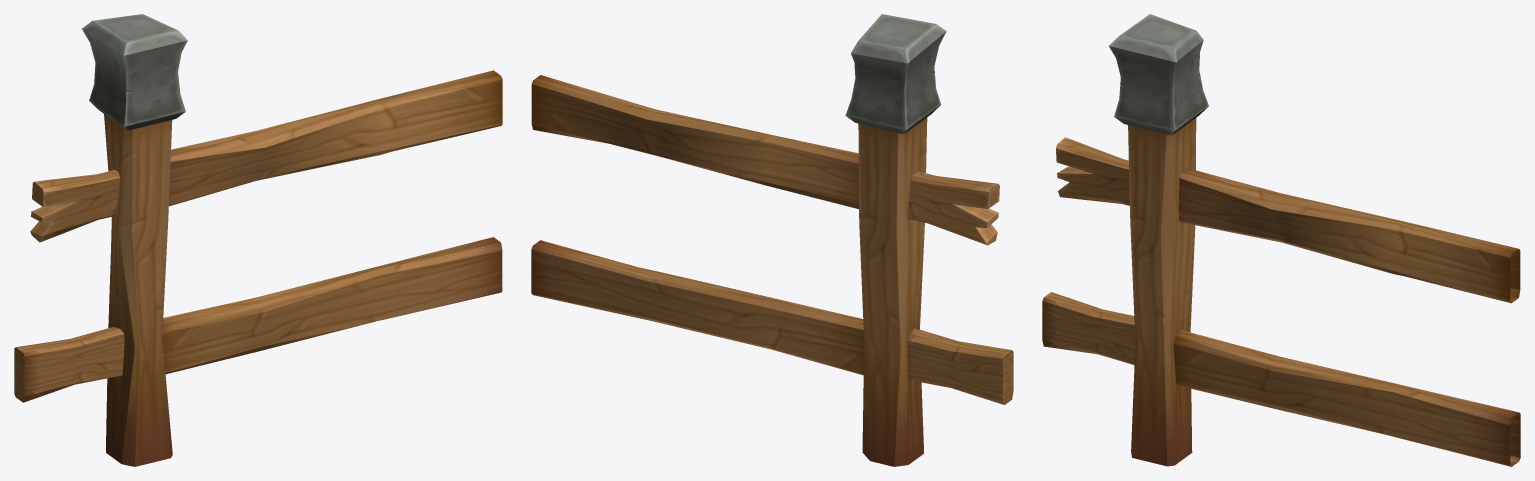
Rendered from Fence #3 - Bars.fbx.
3 views of the same model, side by side, from view 1: azimuth 30°, elevation 25°; view 2: azimuth 150°, elevation 25°; view 3: azimuth 330°, elevation 25° (orthographic).
Visible parts, largest first — view 1: Fence #3 - Bars; view 2: Fence #3 - Bars; view 3: Fence #3 - Bars.
Part boxes in pixels (x1,y1,x2,y2): Fence #3 - Bars: (14, 14, 502, 466); Fence #3 - Bars: (531, 14, 1013, 466); Fence #3 - Bars: (1042, 14, 1520, 466).
Bounding box in the file's own units: 171 × 147 × 25.37.
Materials: 1 (1 with a texture image).
